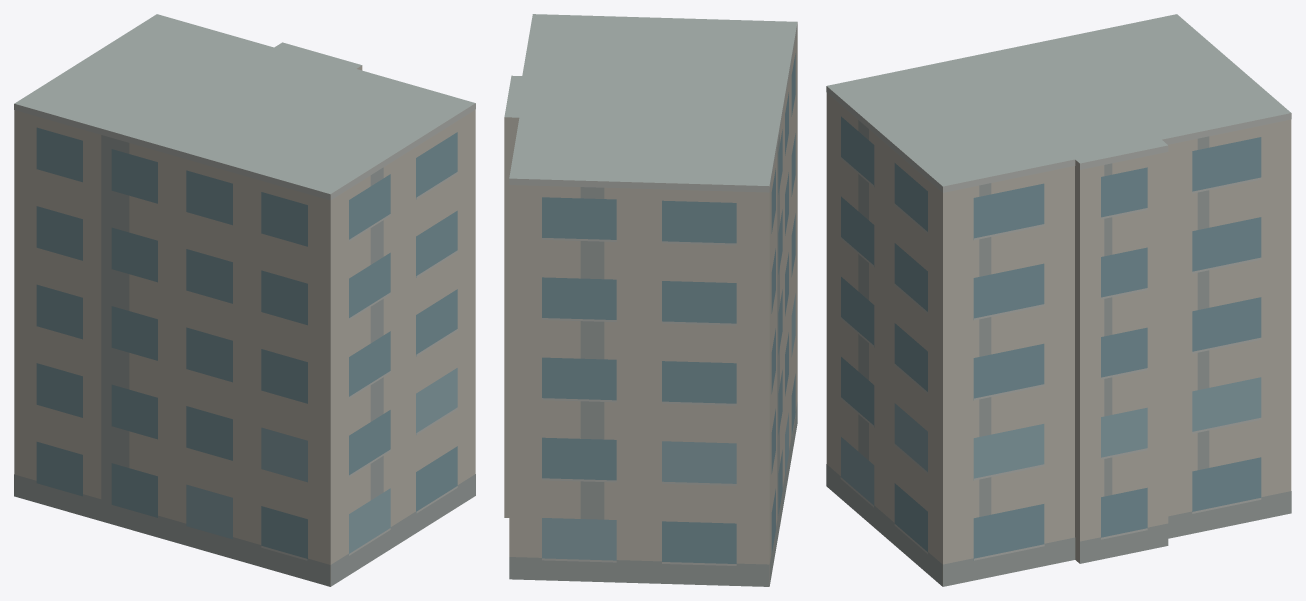
The model's file is residential-0fca3c51-28e4-47a9-aa75-a952b5300f10.glb.
3 renders of one model, left to right at view 1: azimuth 30°, elevation 25°; view 2: azimuth 150°, elevation 25°; view 3: azimuth 270°, elevation 25°, orthographic. The views are drawn at different scales.
Parts seen in each view (by area): view 1: residential-0fca3c51-28e4-47a9-aa75-a952b5300f10.tmp; view 2: residential-0fca3c51-28e4-47a9-aa75-a952b5300f10.tmp; view 3: residential-0fca3c51-28e4-47a9-aa75-a952b5300f10.tmp.
Boxes of the visible parts, bbox=[...] form: residential-0fca3c51-28e4-47a9-aa75-a952b5300f10.tmp: bbox=[14, 14, 475, 586]; residential-0fca3c51-28e4-47a9-aa75-a952b5300f10.tmp: bbox=[504, 14, 797, 586]; residential-0fca3c51-28e4-47a9-aa75-a952b5300f10.tmp: bbox=[826, 14, 1291, 586].
Bounding box in the file's own units: 14.1 × 15.25 × 16.06.
